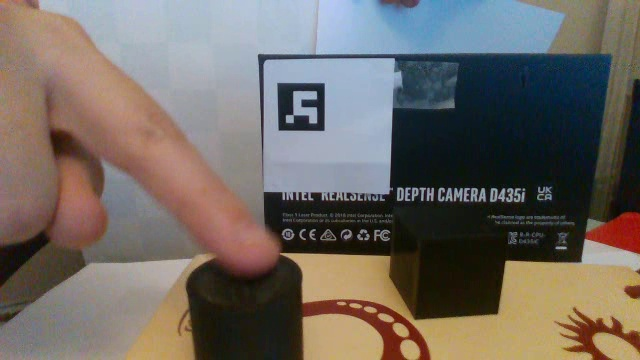cube: (380, 203, 516, 329)
cylindre: (181, 245, 310, 360)
